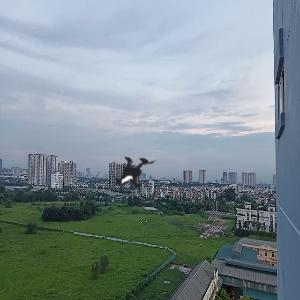drone: (88, 127, 176, 215)
